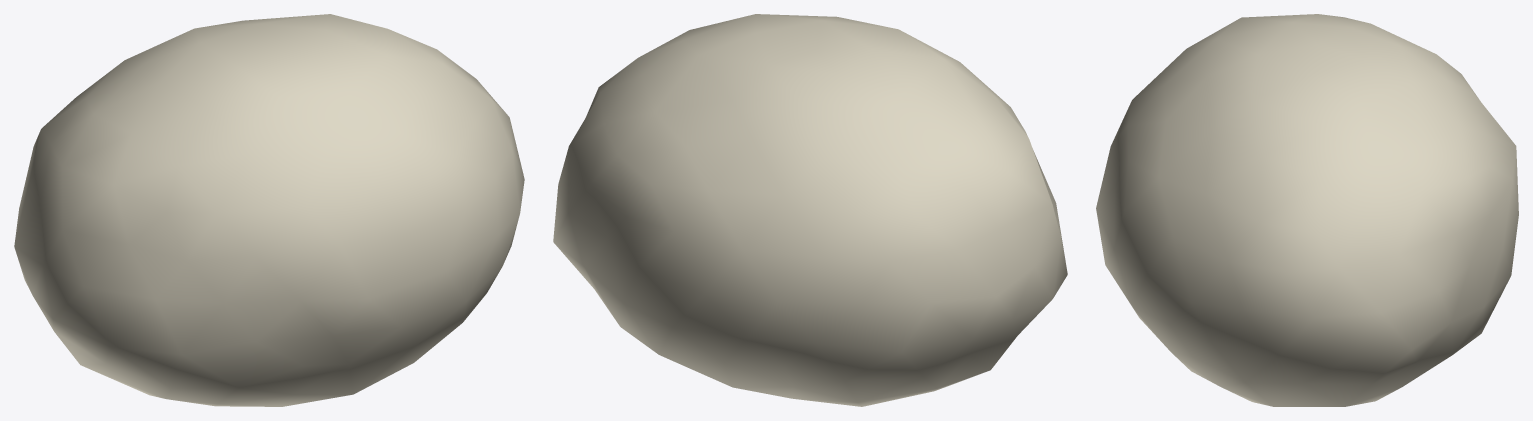
File: Boulder_A.fbx
3 renders of one model, left to right at view 1: azimuth 30°, elevation 25°; view 2: azimuth 150°, elevation 25°; view 3: azimuth 270°, elevation 25°, orthographic. The views are drawn at different scales.
Visible parts, largest first — view 1: Boulder_A; view 2: Boulder_A; view 3: Boulder_A.
Part boxes in pixels (bbox=[...]): Boulder_A: bbox=[14, 14, 524, 406]; Boulder_A: bbox=[553, 14, 1067, 406]; Boulder_A: bbox=[1096, 14, 1518, 406].
Size of the model in its own units: 0.9419 by 0.6182 by 0.7612.
